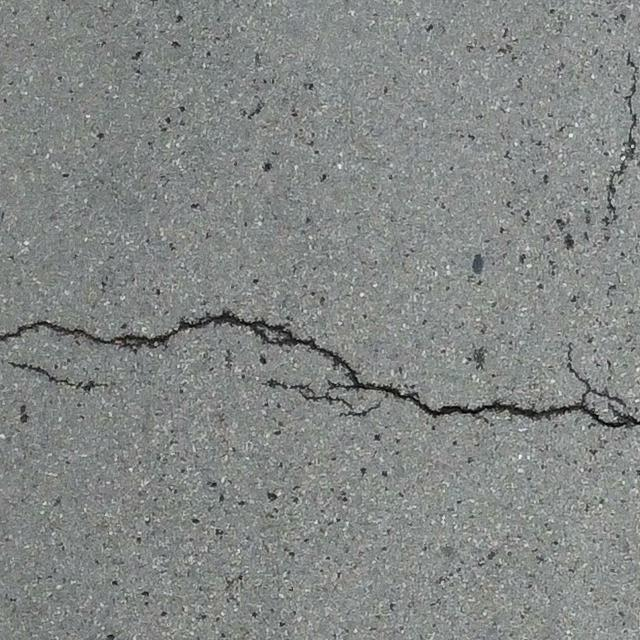TransverseCrack: (1, 312, 640, 430), (7, 356, 110, 394)
